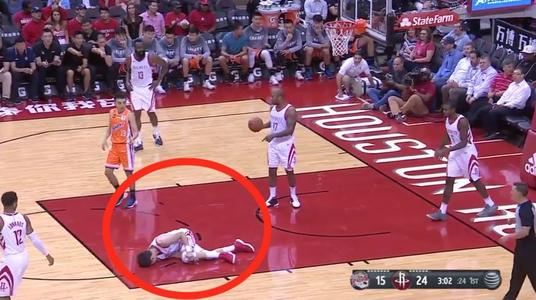10+: (1, 1, 535, 297)
down: (130, 219, 265, 277)
